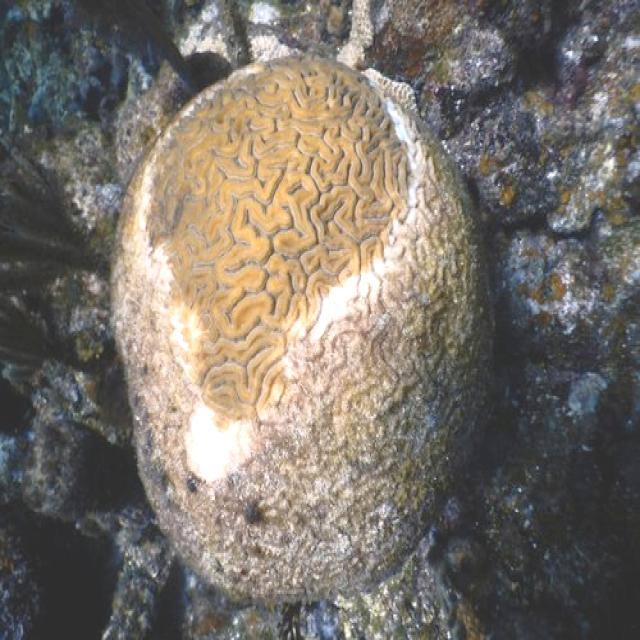Coral: (109, 51, 497, 606)
